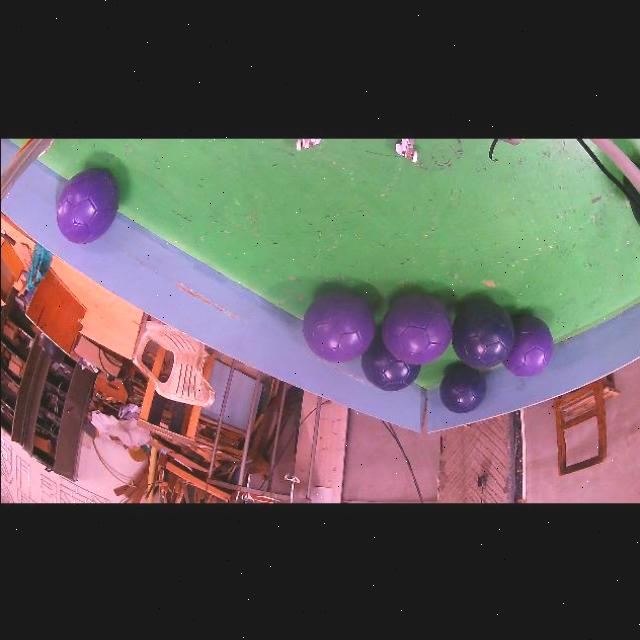B: (451, 300, 513, 368), (360, 336, 420, 391), (439, 364, 486, 412)
P: (302, 290, 374, 362), (381, 292, 451, 364), (55, 168, 118, 243), (502, 315, 553, 376)
